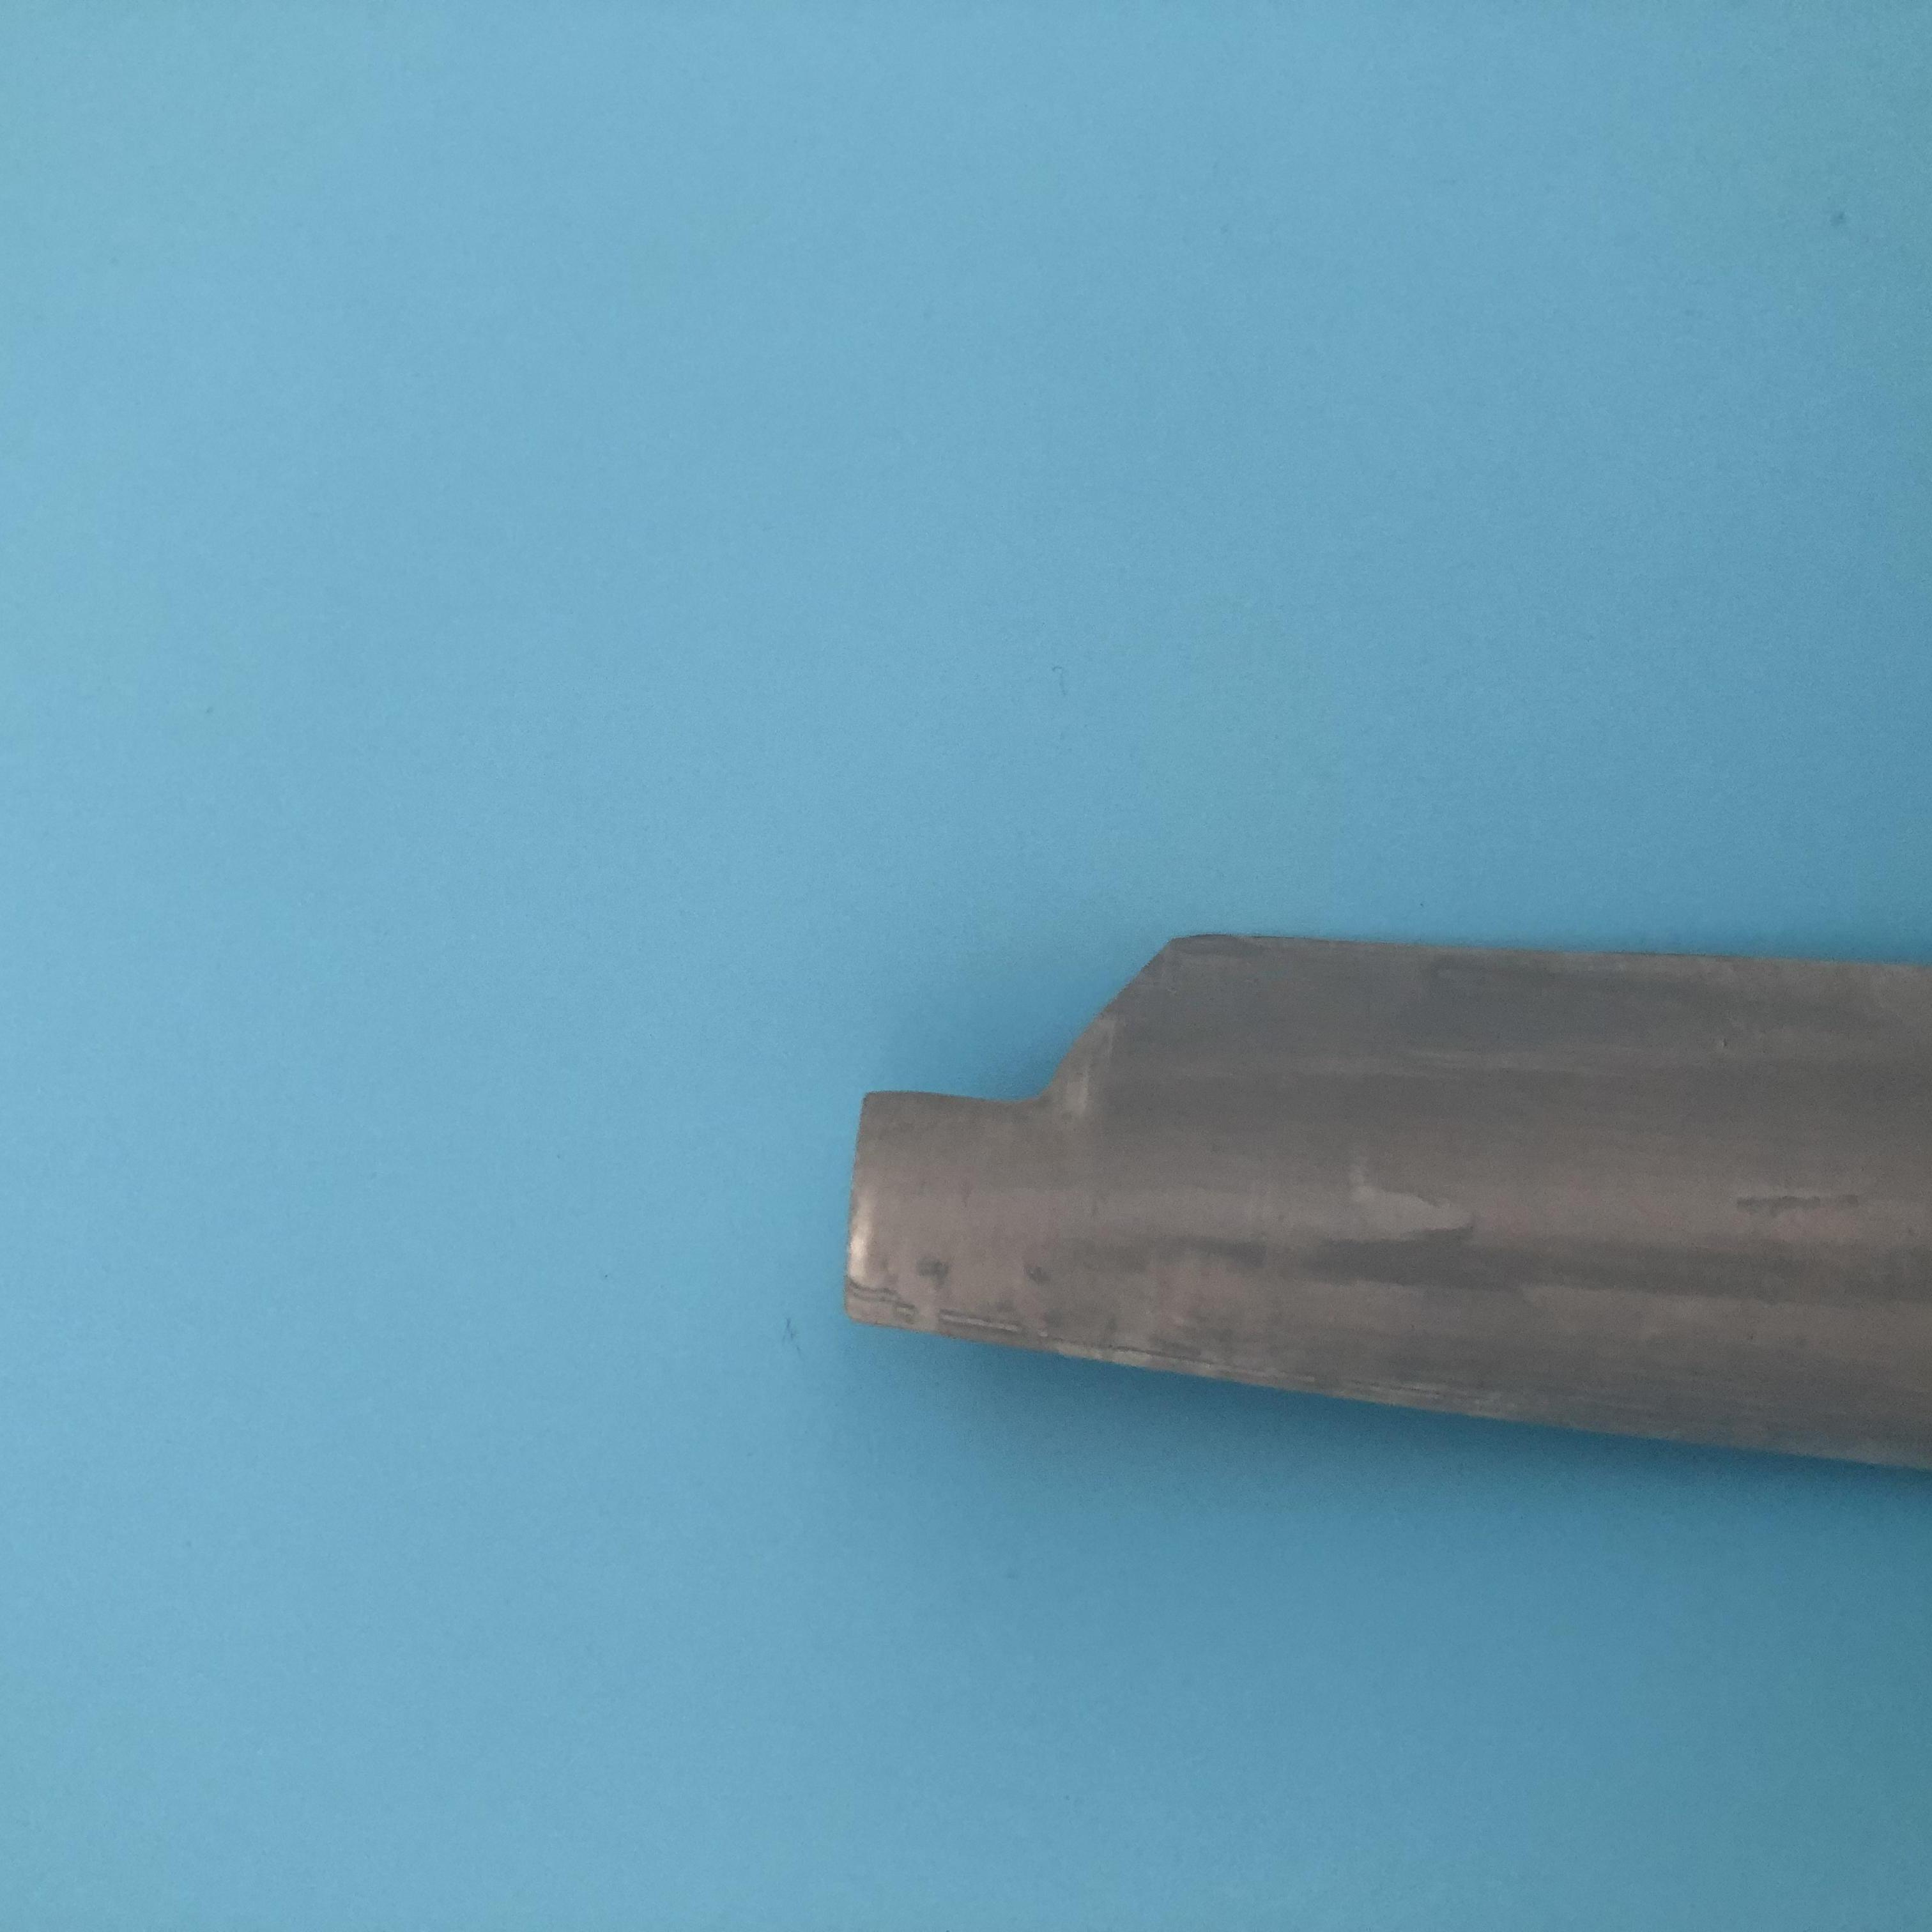fracture: (872, 950, 1210, 1122)
